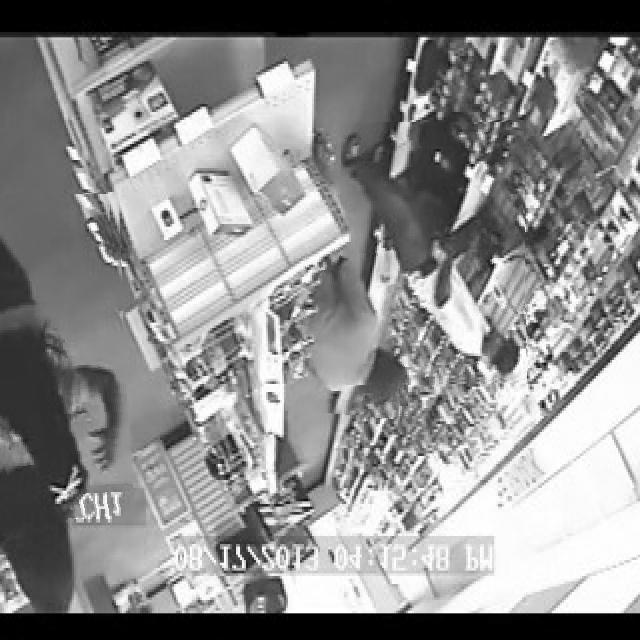normal: (341, 122, 526, 385), (0, 194, 129, 522), (288, 241, 408, 417)
